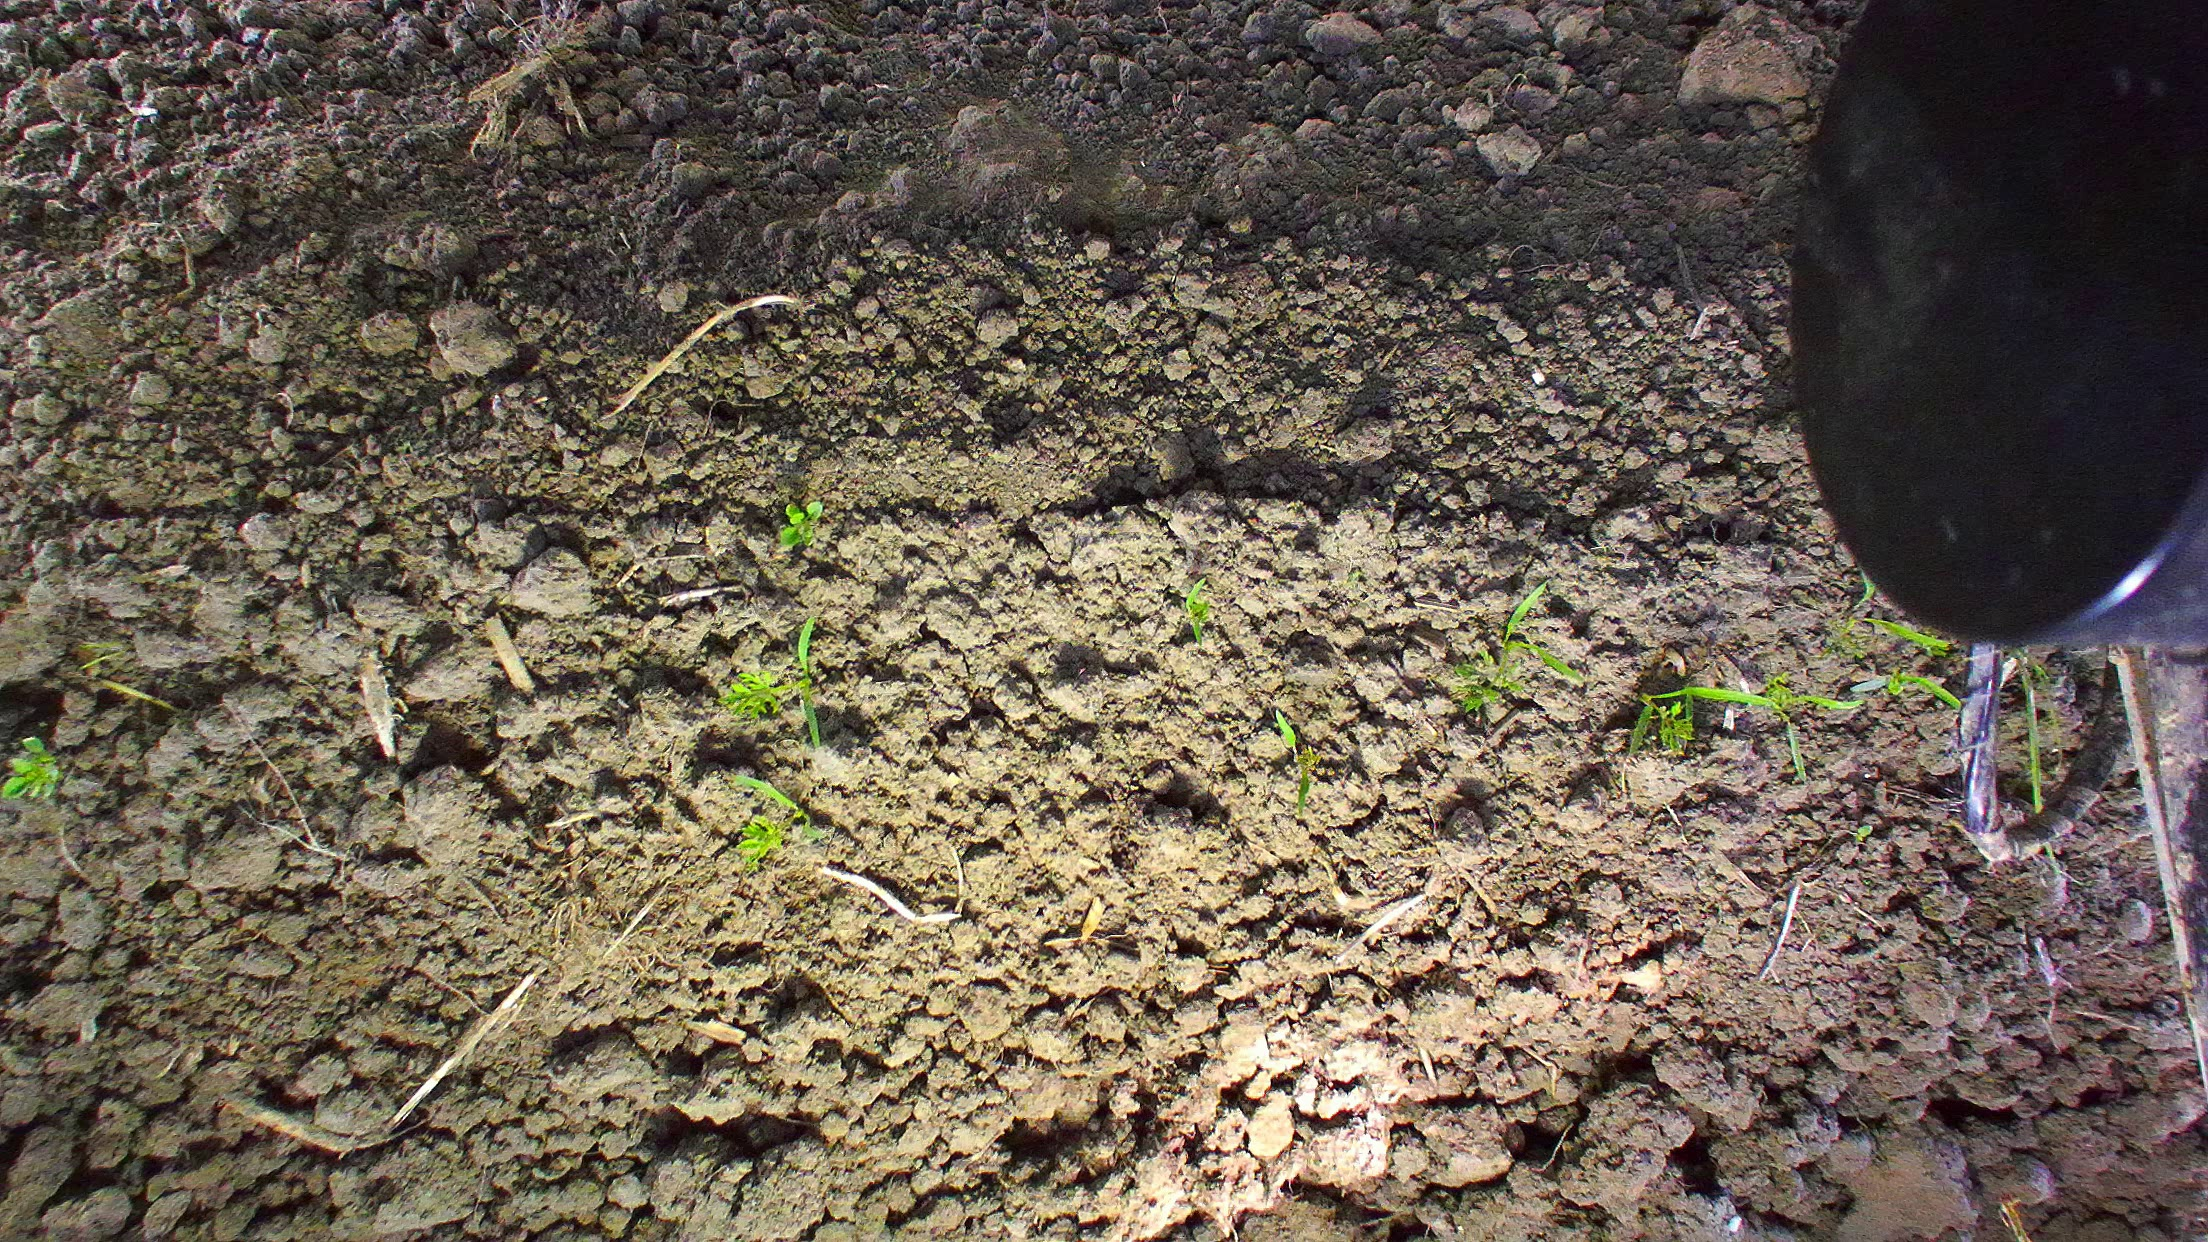Crop: (1626, 669, 1868, 789), (1451, 576, 1585, 719), (716, 613, 825, 751), (2014, 663, 2061, 817), (731, 773, 822, 843), (0, 732, 82, 807), (1861, 613, 1967, 660), (1880, 667, 1964, 719), (732, 811, 786, 873), (1181, 575, 1212, 649), (1821, 616, 1865, 663), (1269, 708, 1303, 749), (1294, 770, 1313, 811)
Weed: (776, 497, 826, 550)
